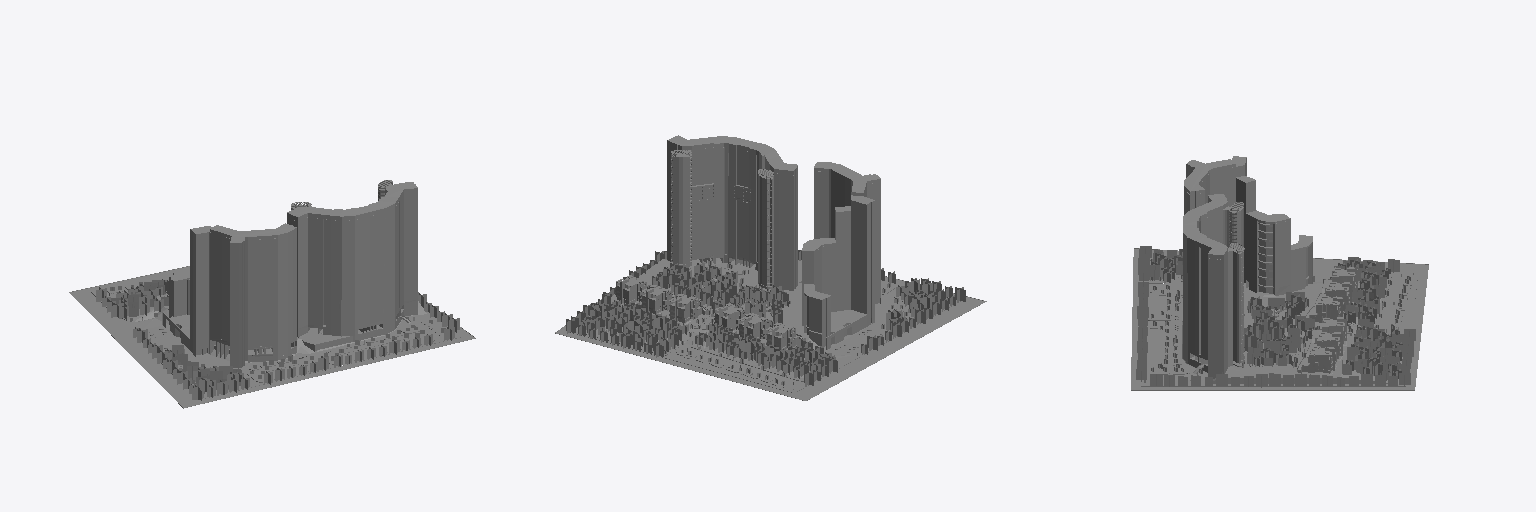
The picture shows the model from 3 angles: view 1: azimuth 30°, elevation 25°; view 2: azimuth 150°, elevation 25°; view 3: azimuth 270°, elevation 25°; orthographic projection.
Parts seen in each view (by area): view 1: lh207_01, Line01_05, ??02_04, Object03_09, Object03_06, Object04_04, ??02_17, Line01_11, Line03_05, Line01_15, ??02_09, Line01_09 (+15 smaller); view 2: lh207_01, ??02_04, Line03_05, lh207_06, ??02_06, Object04_04, Object03_06, Object02_06, Object01_06, lh207_04, Object03_11, lh207_05 (+17 smaller); view 3: lh207_01, ??02_04, lh207_06, ??02_06, Object02_08, Object02_06, ??02_03, lh207_04, lh207_03, Object06_05, ??02_09, ??02_17 (+11 smaller).
Boxes of the visible parts, box(x1,y1,x2,y2) form: lh207_01: box(96, 279, 459, 400); Line01_05: box(211, 233, 273, 347); ??02_04: box(73, 266, 469, 404); Object03_09: box(339, 208, 394, 339); Object03_06: box(331, 204, 397, 327); Object04_04: box(308, 218, 330, 326); ??02_17: box(145, 321, 443, 395); Line01_11: box(230, 244, 243, 353); Line03_05: box(196, 232, 208, 341); Line01_15: box(278, 236, 287, 356); ??02_09: box(148, 323, 434, 382); Line01_09: box(220, 236, 261, 346); lh207_01: box(566, 250, 965, 386); ??02_04: box(560, 276, 978, 397); Line03_05: box(836, 200, 866, 313); lh207_06: box(579, 267, 933, 378); ??02_06: box(611, 259, 858, 386); Object04_04: box(767, 165, 793, 282); Object03_06: box(714, 160, 764, 247); Object02_06: box(667, 145, 712, 253); Object01_06: box(673, 156, 689, 264); lh207_04: box(594, 263, 931, 361); Object03_11: box(714, 148, 761, 261); lh207_05: box(590, 269, 932, 366); lh207_01: box(1136, 246, 1415, 387); ??02_04: box(1131, 250, 1427, 389); lh207_06: box(1151, 258, 1402, 378); ??02_06: box(1145, 269, 1411, 383); Object02_08: box(1208, 258, 1223, 366); Object02_06: box(1195, 245, 1227, 365); ??02_03: box(1147, 261, 1412, 383); lh207_04: box(1158, 249, 1390, 375); lh207_03: box(1150, 259, 1410, 373); Object06_05: box(1250, 218, 1290, 286); ??02_09: box(1147, 274, 1400, 374); ??02_17: box(1147, 276, 1198, 377).
Size of the model in its own units: 256 by 107 by 227.